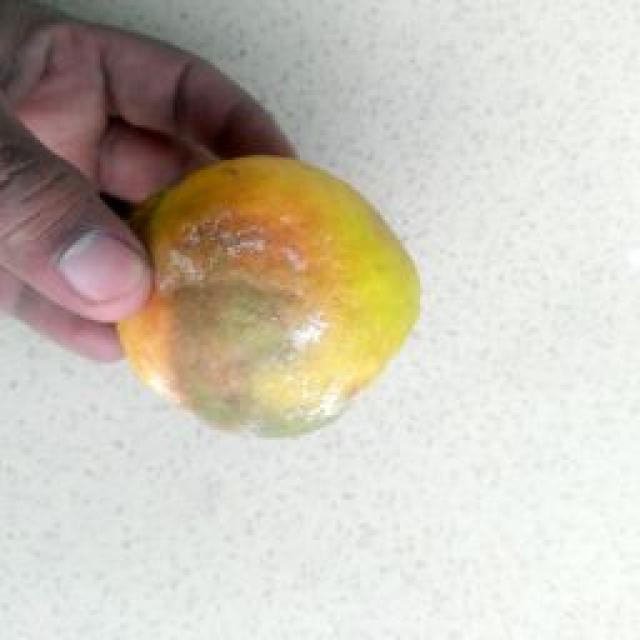Bad_Orange: (120, 159, 419, 434)
